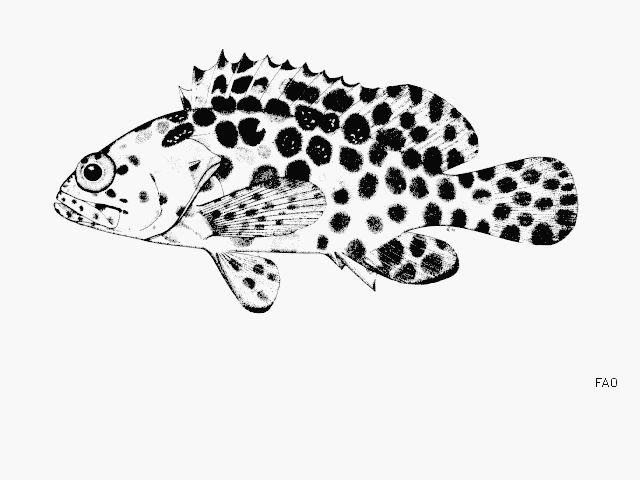fish: (52, 46, 579, 313)
